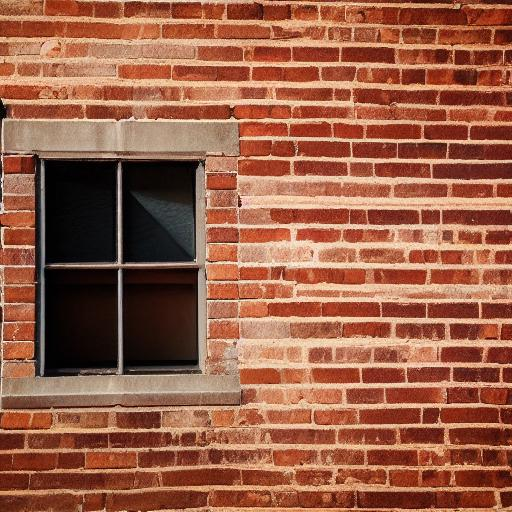Window: (1, 118, 239, 407)
